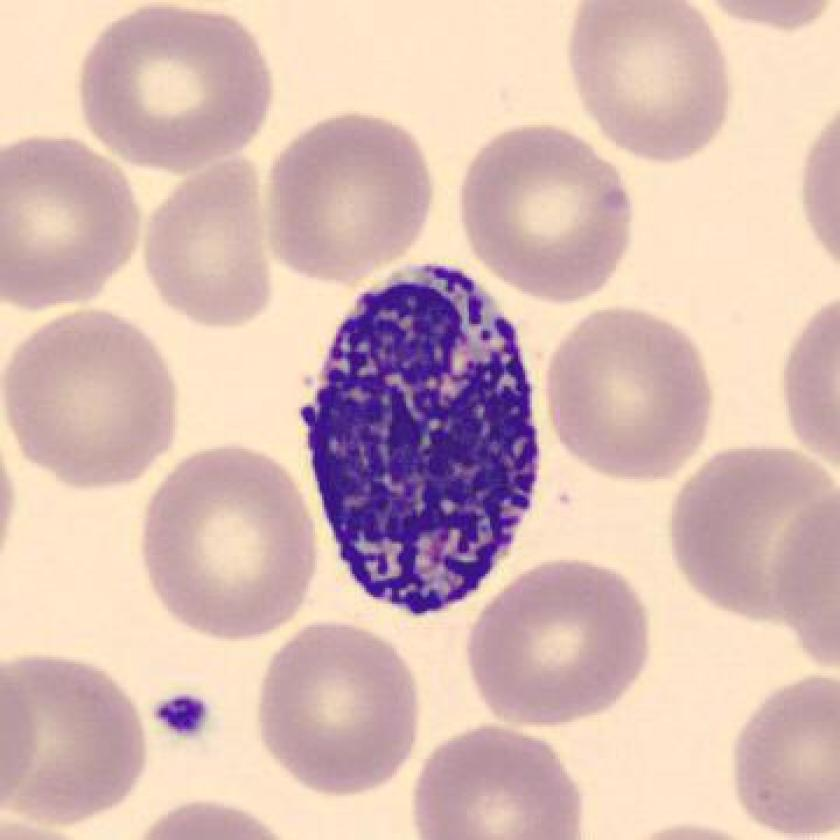basophil: (297, 246, 552, 628)
